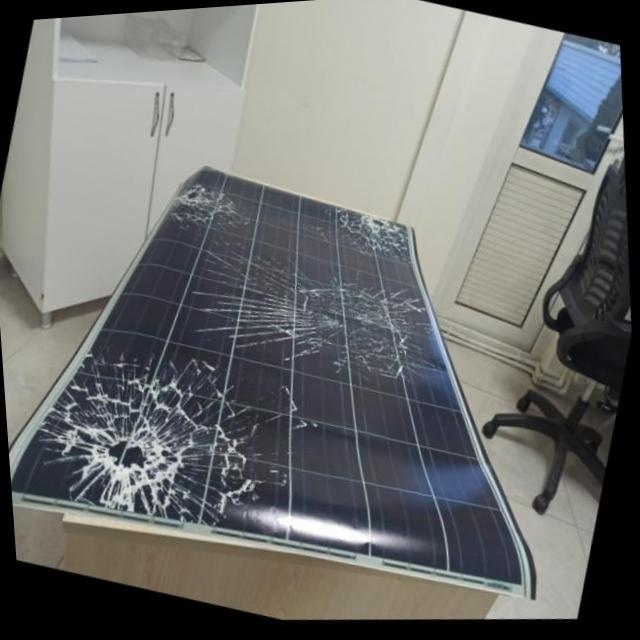faulty: (11, 162, 533, 592)
